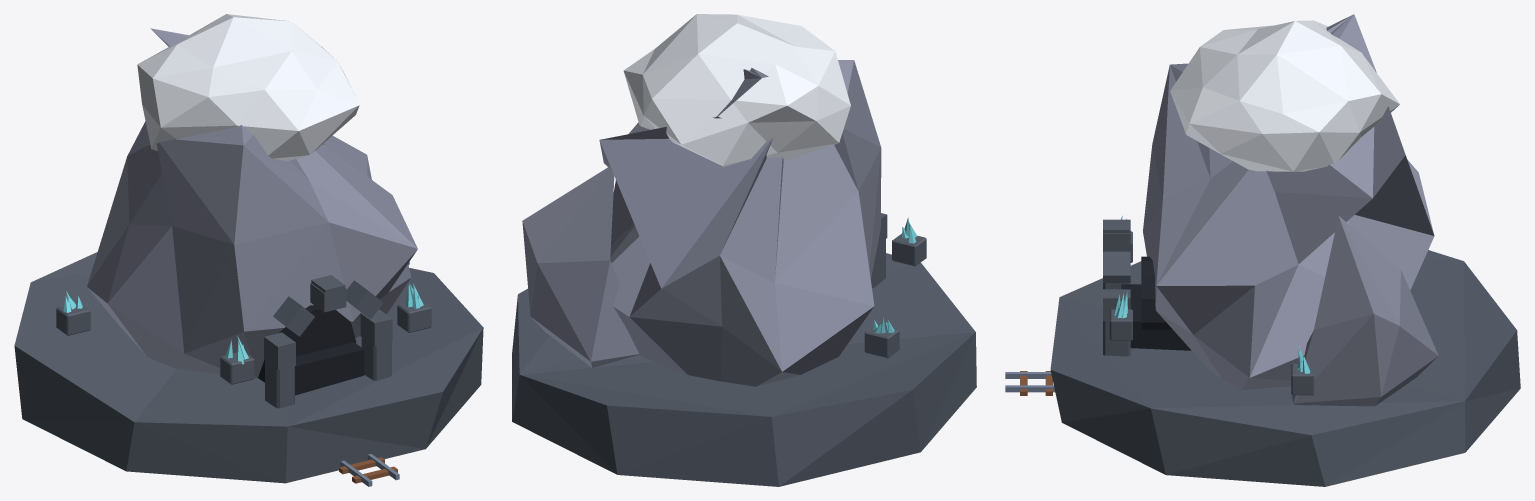
The model's file is SM_Mountain_Diamond.fbx.
3 views of the same model, side by side, from view 1: azimuth 30°, elevation 25°; view 2: azimuth 150°, elevation 25°; view 3: azimuth 270°, elevation 25° (orthographic).
Parts seen in each view (by area): view 1: SM_Mountain_Diamond; view 2: SM_Mountain_Diamond; view 3: SM_Mountain_Diamond.
Part boxes in pixels (x1,y1,x2,y2): SM_Mountain_Diamond: [14, 14, 483, 486]; SM_Mountain_Diamond: [512, 14, 976, 486]; SM_Mountain_Diamond: [1005, 14, 1520, 486].
Size of the model in its own units: 10.05 by 8.66 by 11.09.
